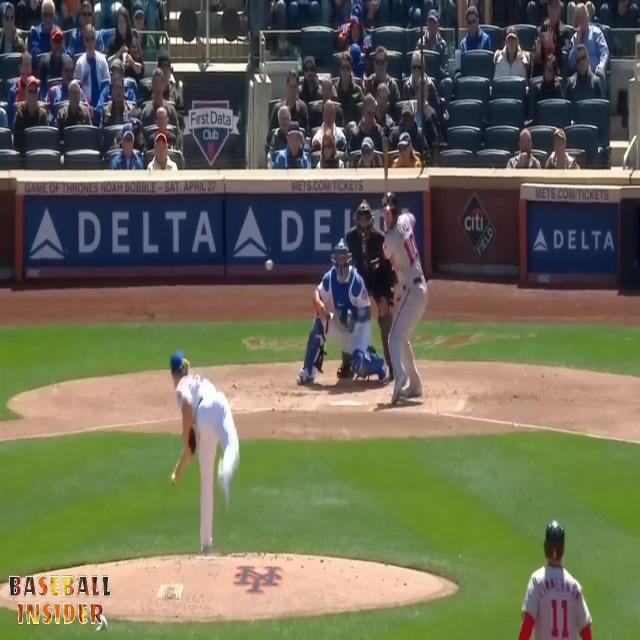baseball: (266, 259, 273, 272)
